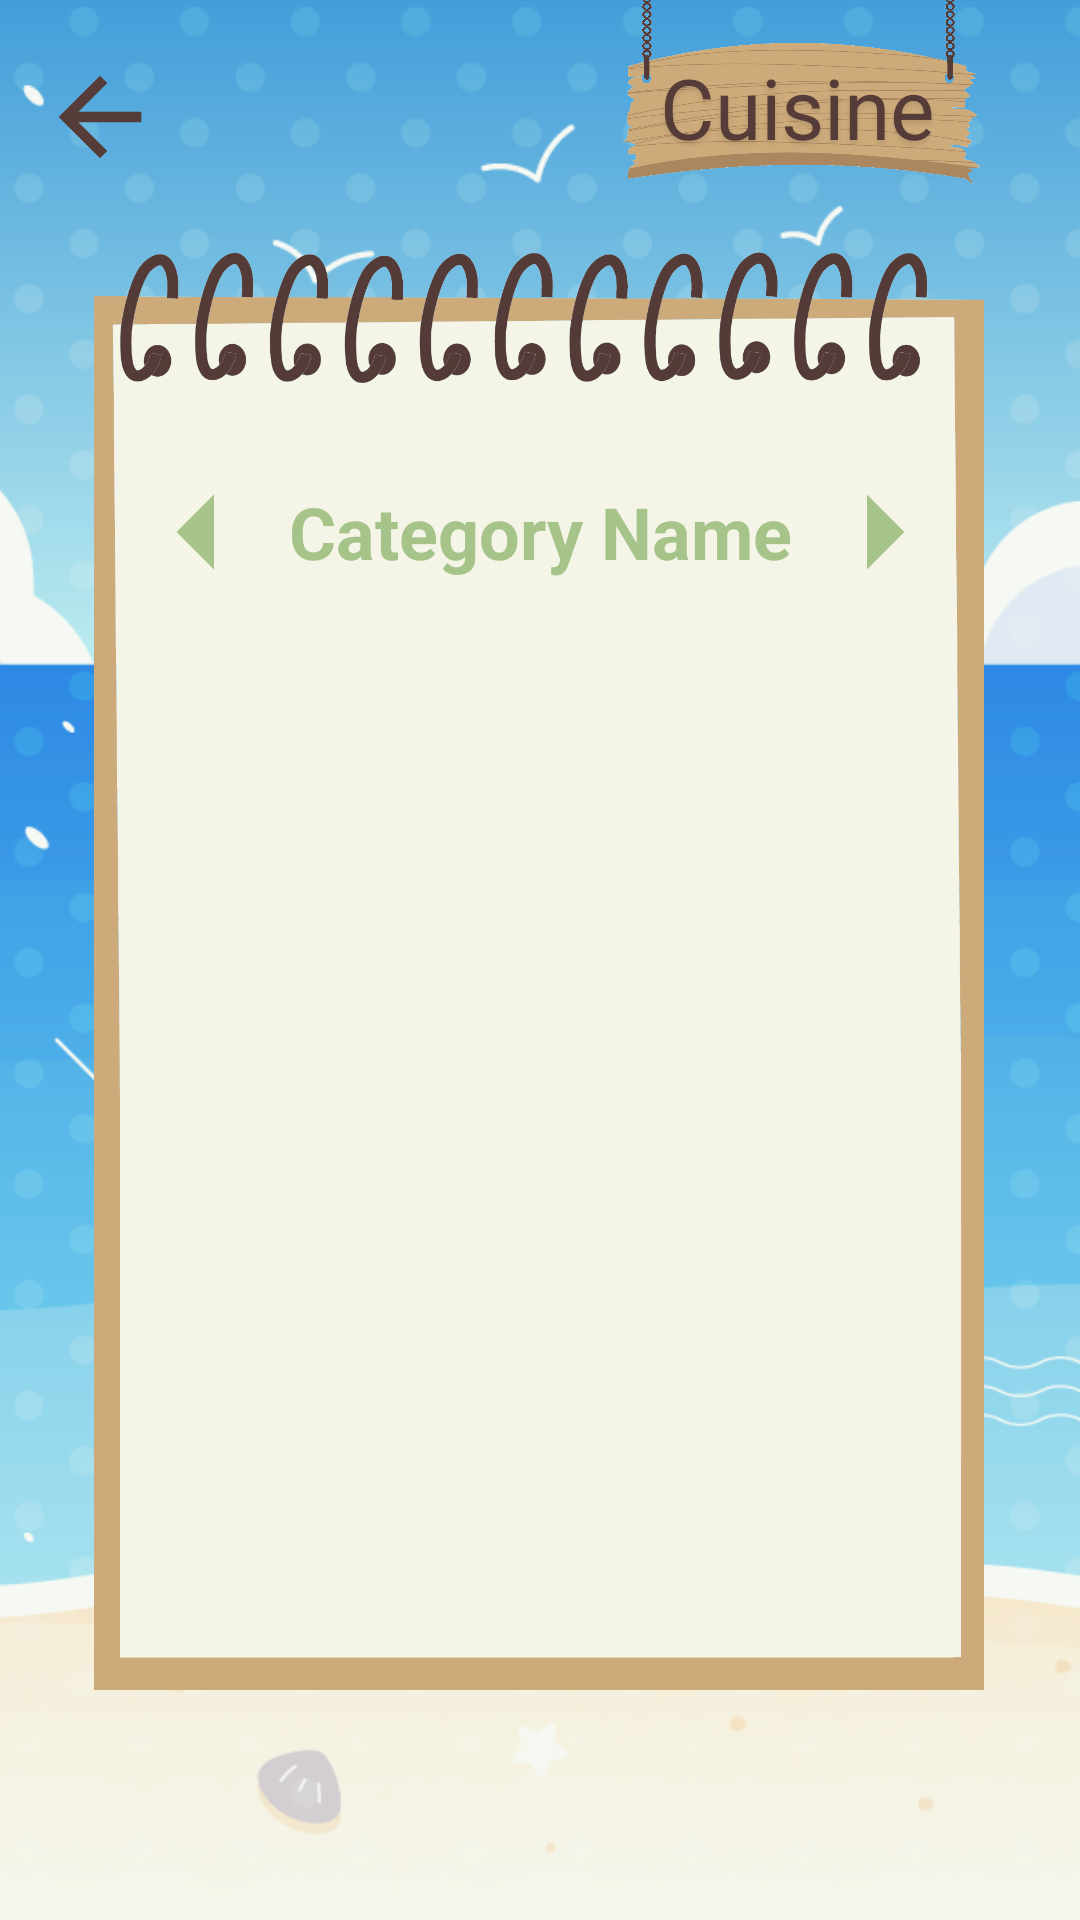

Icon click points for this 1080x1920 phone screenshot, format (x,y):
arrow back: (100,123)
